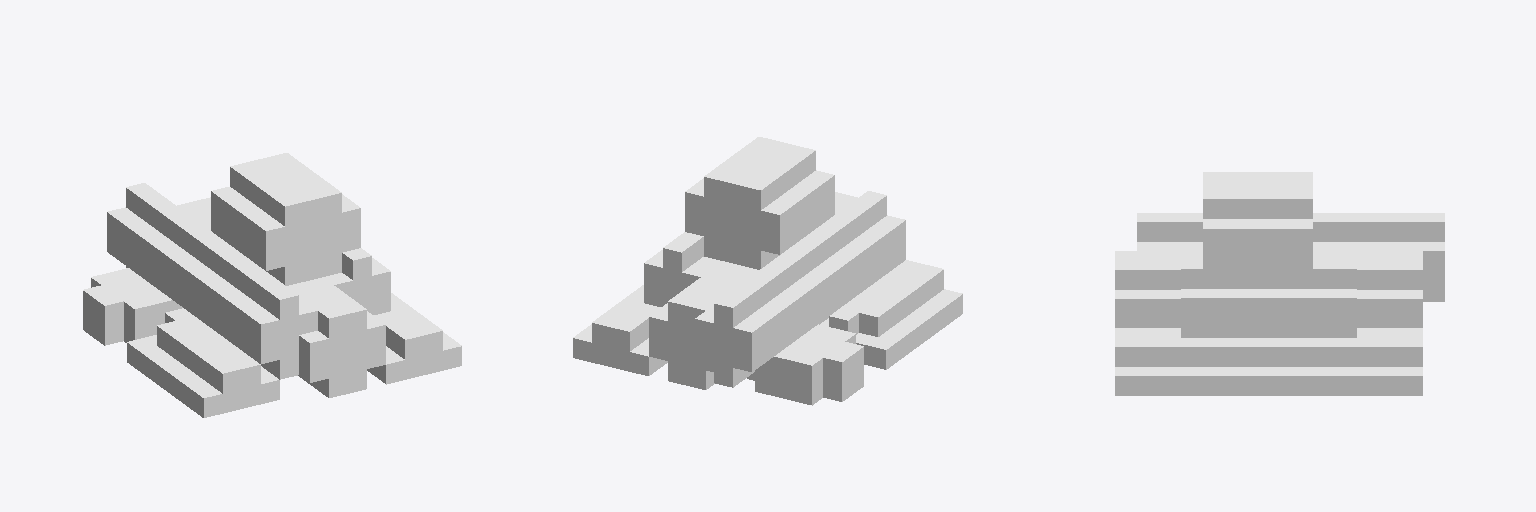
Rendered from WoodPile.obj.
3 renders of one model, left to right at view 1: azimuth 30°, elevation 25°; view 2: azimuth 150°, elevation 25°; view 3: azimuth 270°, elevation 25°, orthographic.
Visible parts, largest first — view 1: CupboardBigDoor; view 2: CupboardBigDoor; view 3: CupboardBigDoor.
Boxes of the visible parts, x1=… form: CupboardBigDoor: x1=83, y1=153, x2=461, y2=417; CupboardBigDoor: x1=573, y1=137, x2=962, y2=405; CupboardBigDoor: x1=1115, y1=172, x2=1444, y2=395.
Size of the model in its own units: 1.3 by 0.8 by 1.5.